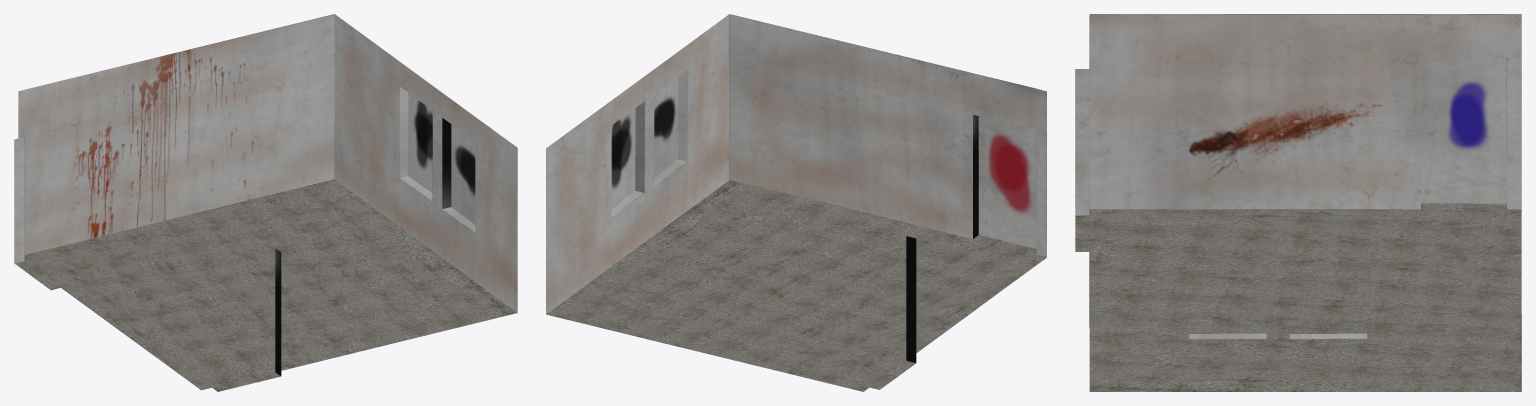
Rendered from Spawn_Room.gltf.
3 renders of one model, left to right at view 1: azimuth 30°, elevation 25°; view 2: azimuth 150°, elevation 25°; view 3: azimuth 270°, elevation 25°, orthographic. The views are drawn at different scales.
Visible parts, largest first — view 1: Spawn; view 2: Spawn; view 3: Spawn.
Boxes of the visible parts, <box> form: Spawn: <box>14,14,517,391</box>; Spawn: <box>546,14,1046,391</box>; Spawn: <box>1075,14,1521,391</box>.
Bounding box in the file's own units: 6.36 × 3 × 6.2.
Materials: 1 (1 with a texture image).
